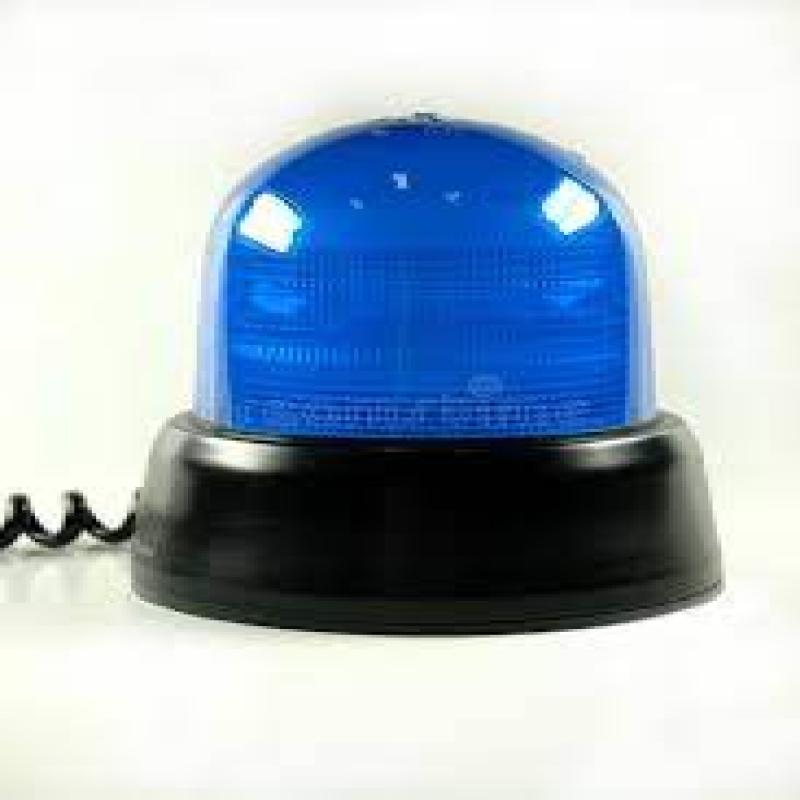AmbulanceSiren: (119, 107, 723, 644)
